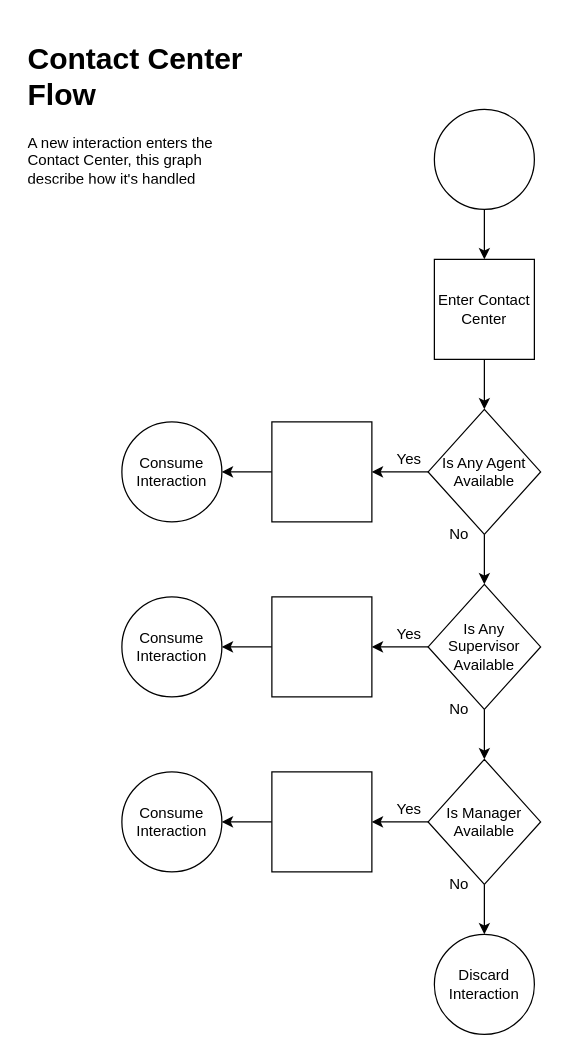
Some shapes in this 563 by 1056 pixel diagram are drawn without their labels. Here are the shapes that lost their labels. From the top down, the centre of each, then its label:
At (x=483, y=158): "New Interaction".
At (x=321, y=471): "Assign to Agent".
At (x=321, y=646): "Assign to Supervisor".
At (x=321, y=821): "Assign to Manager".
